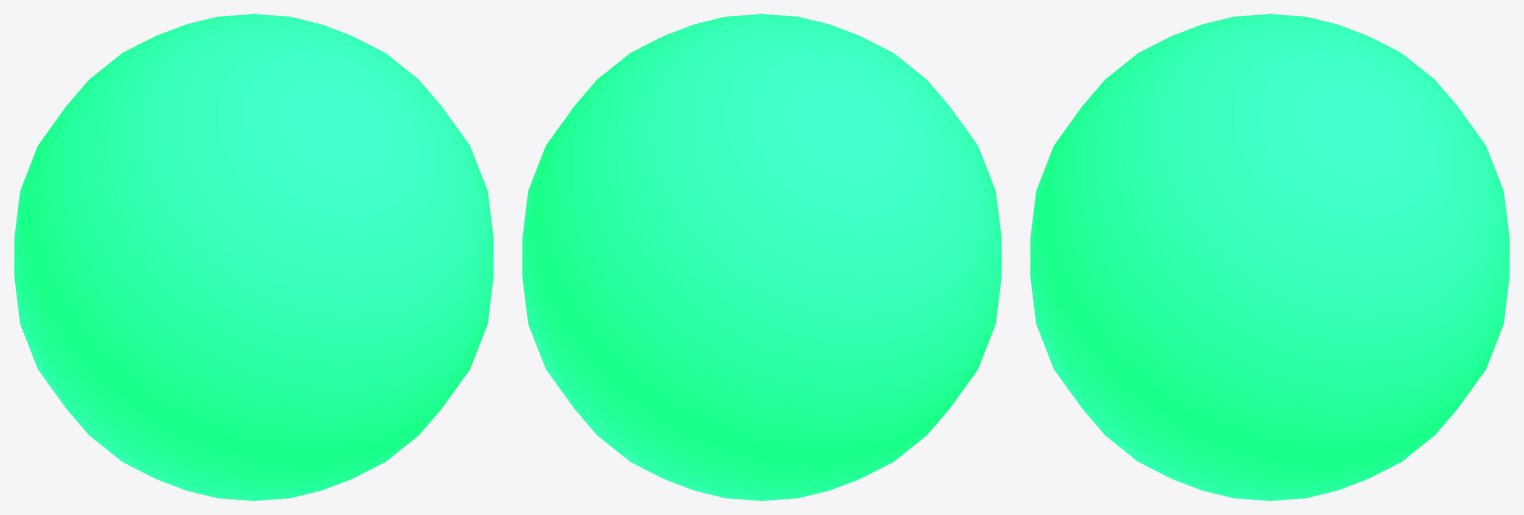
Rendered from green-sphere.glb.
The picture shows the model from 3 angles, left to right: view 1: azimuth 30°, elevation 25°; view 2: azimuth 150°, elevation 25°; view 3: azimuth 270°, elevation 25°; orthographic projection.
Parts seen in each view (by area): view 1: GreenGrenade; view 2: GreenGrenade; view 3: GreenGrenade.
Boxes of the visible parts, x1,y1,x2,y2 form: GreenGrenade: [14, 14, 493, 500]; GreenGrenade: [522, 14, 1001, 500]; GreenGrenade: [1030, 14, 1509, 500].
Size of the model in its own units: 2 by 2 by 1.97.
